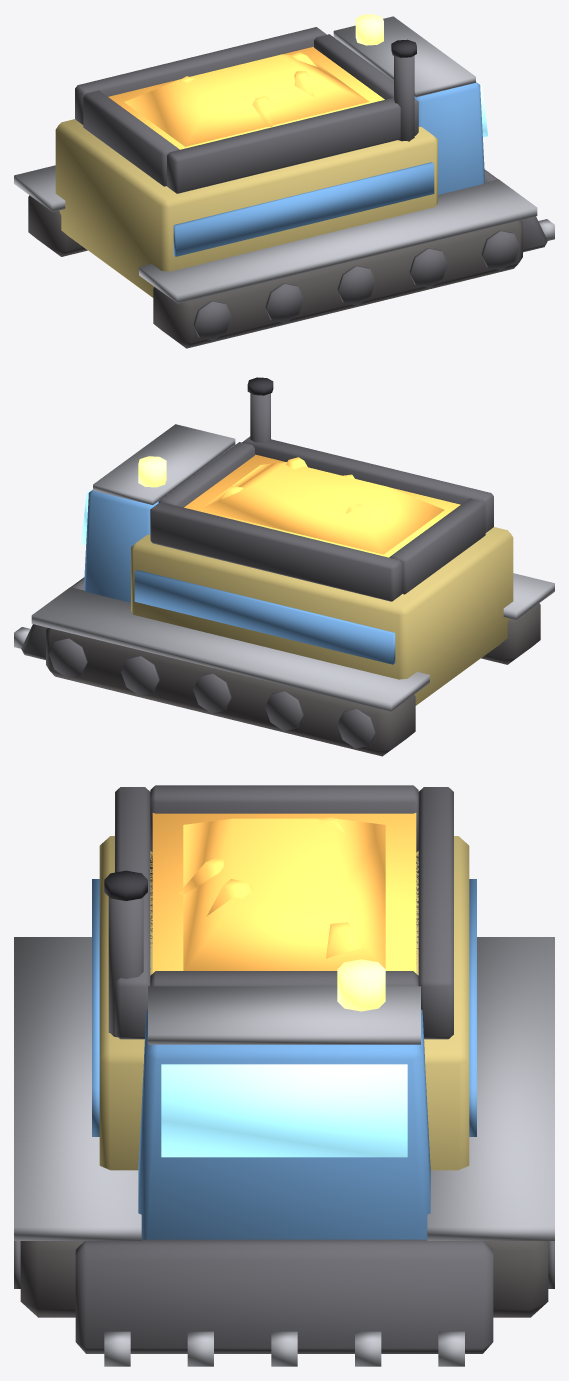
File: harvester.glb
The picture shows the model from 3 angles, top to bottom: view 1: azimuth 30°, elevation 25°; view 2: azimuth 150°, elevation 25°; view 3: azimuth 270°, elevation 25°; orthographic projection. The views are drawn at different scales.
Visible parts, largest first — view 1: body, load; view 2: body, load; view 3: body, load.
Boxes of the visible parts, x1=… form: body: x1=14, y1=14, x2=554, y2=348; load: x1=108, y1=46, x2=384, y2=149; body: x1=14, y1=377, x2=554, y2=756; load: x1=184, y1=454, x2=460, y2=557; body: x1=14, y1=785, x2=554, y2=1366; load: x1=152, y1=813, x2=416, y2=973.
Bounding box in the file's own units: 0.8775 × 0.465 × 0.615.
